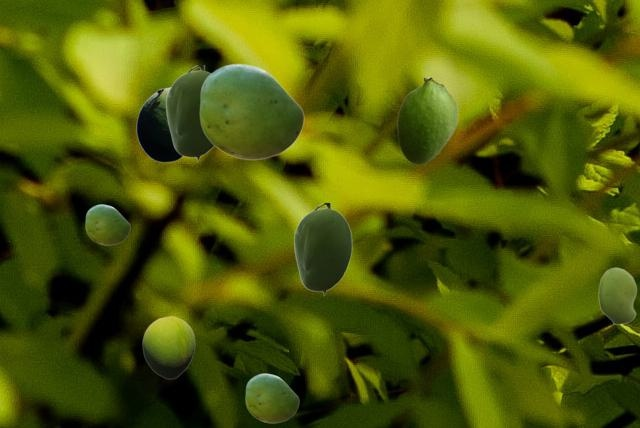green_mango: (199, 63, 303, 159), (293, 203, 351, 295), (397, 76, 457, 163), (165, 65, 214, 161), (136, 87, 182, 161), (142, 316, 194, 378), (245, 373, 298, 422), (598, 267, 636, 324), (85, 204, 129, 244)
